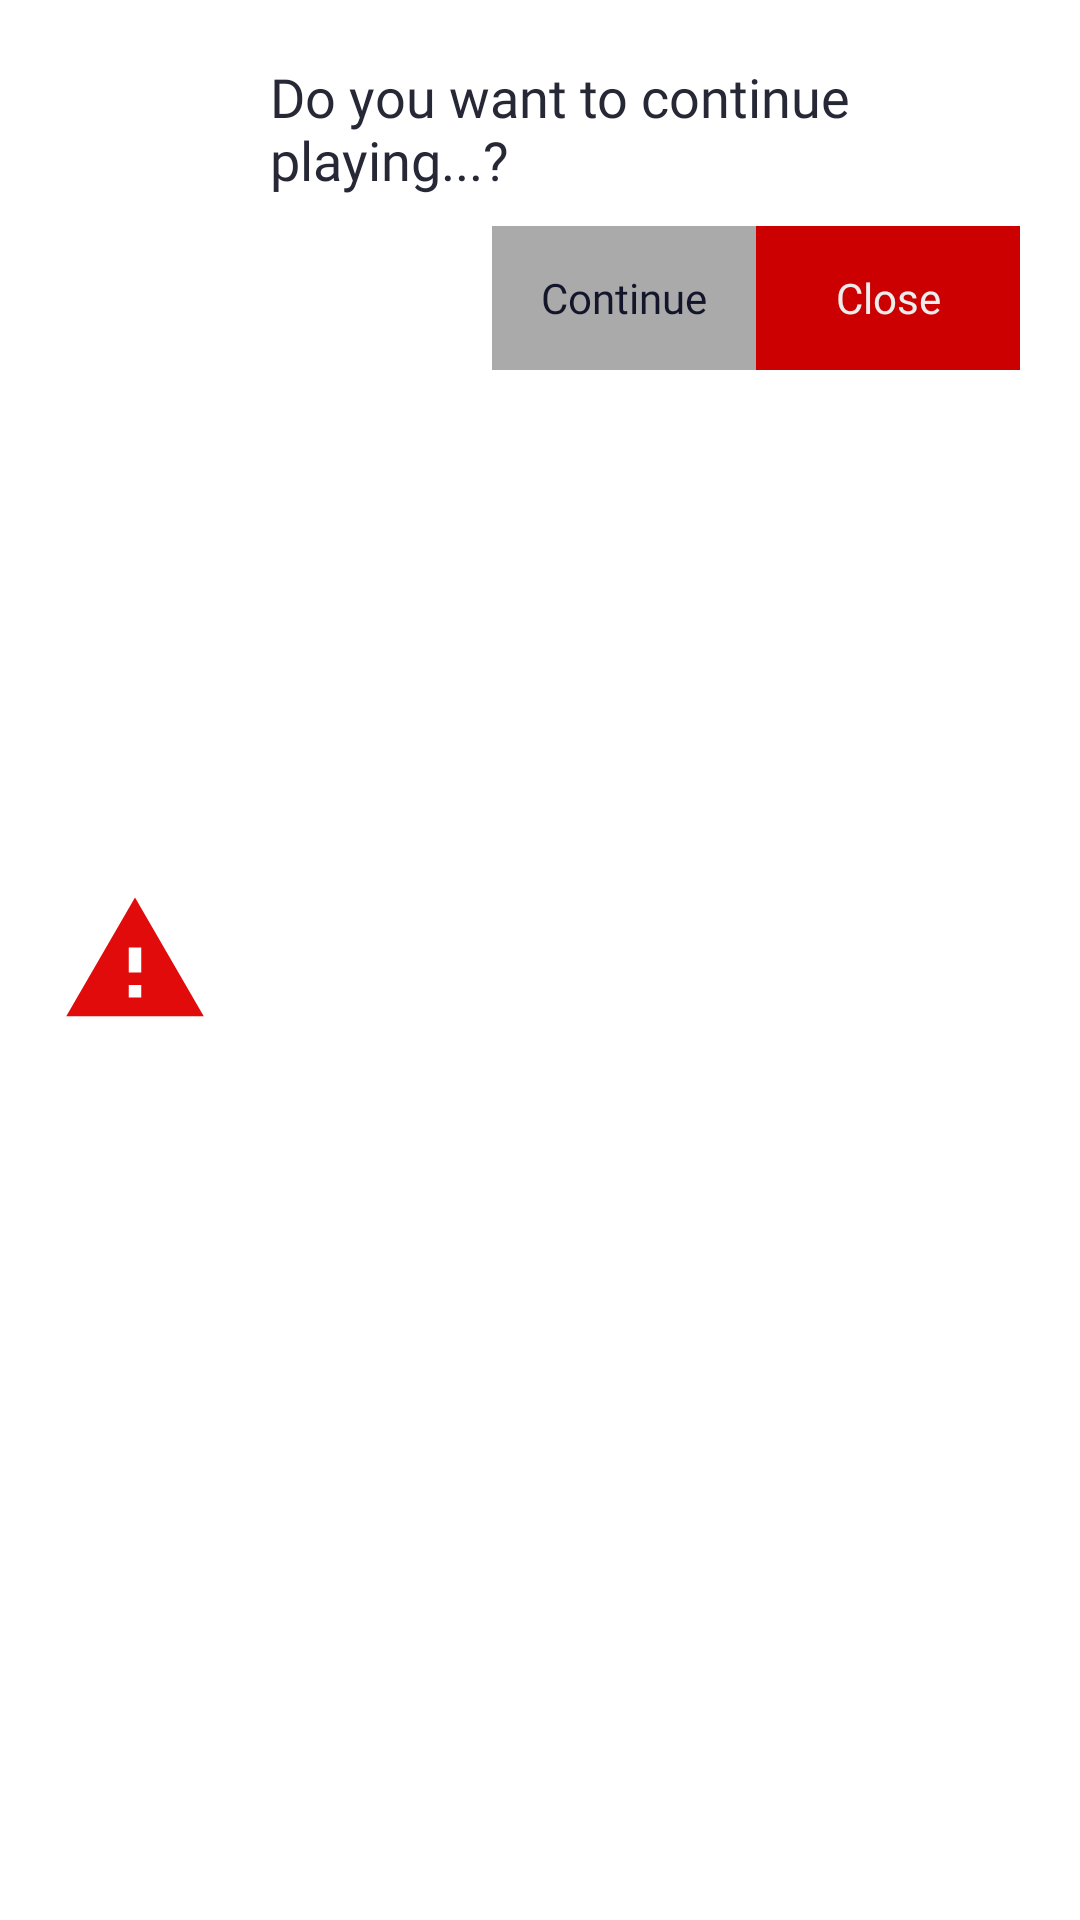

Where to tap for icons on this 1080 × 1920 app screen, as [x,y]:
warning: [135,957]
